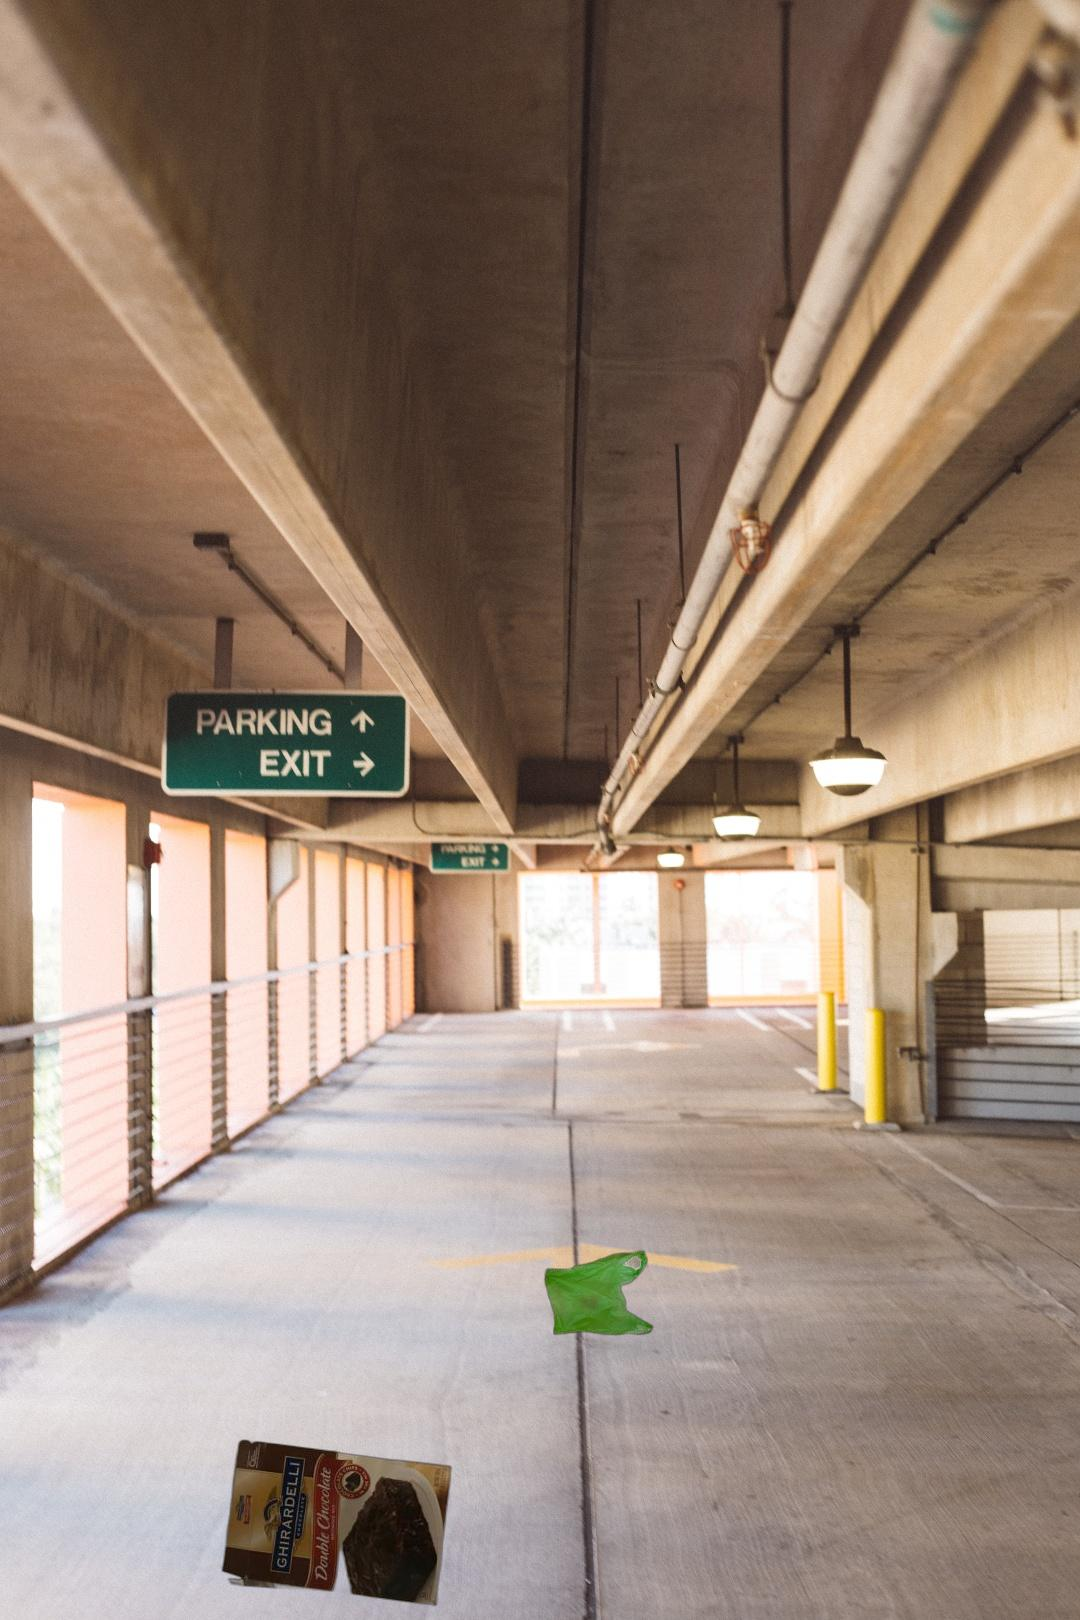paper: (217, 1436, 456, 1608)
plastic-bag: (542, 1249, 656, 1336)
